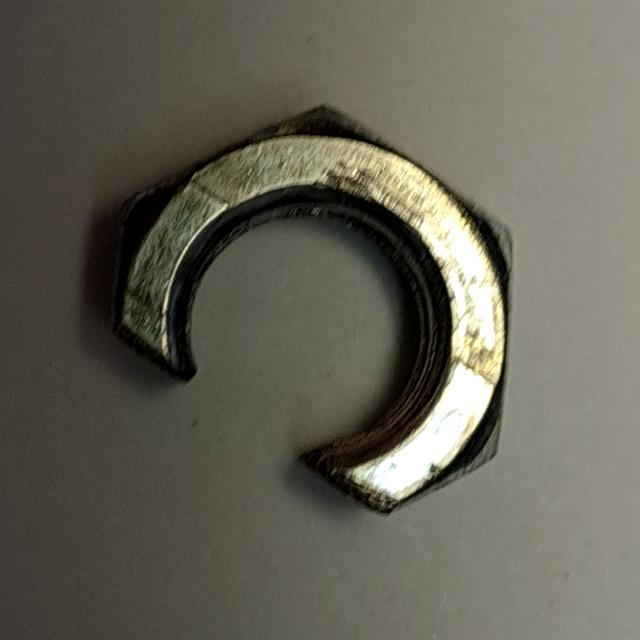Fracture: (94, 92, 530, 530)
